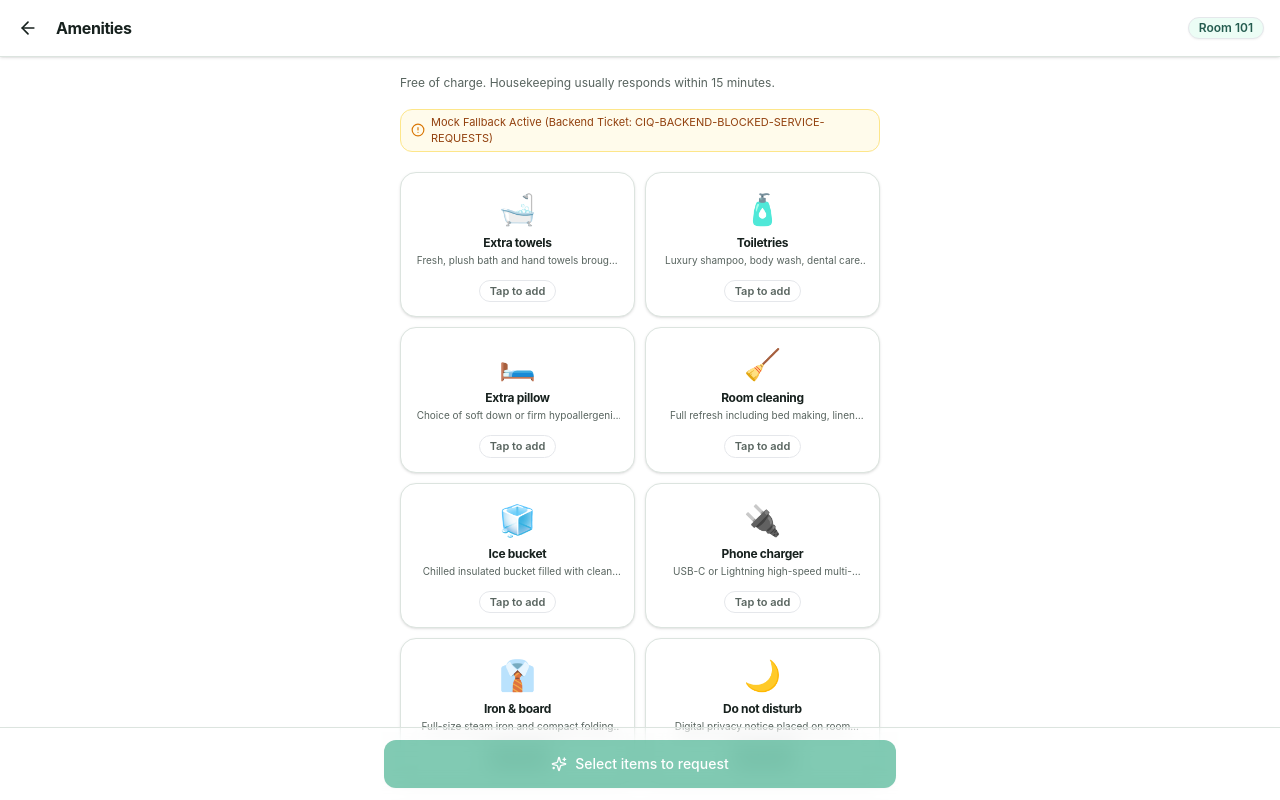
Test: AmenitiesPage Component Suite (UI: G06) › Backend Blocker Resilience & Mock Fallback Execution › catches HTTP 404 from backend gracefully, logs dependency notice, and activates mock 201 fallback
The image size is (1280, 800).
Select 2 Extra towels
Click the button with aria-label "Extra towels, currently 0 selected" at (518, 244), box [400, 172, 635, 317]
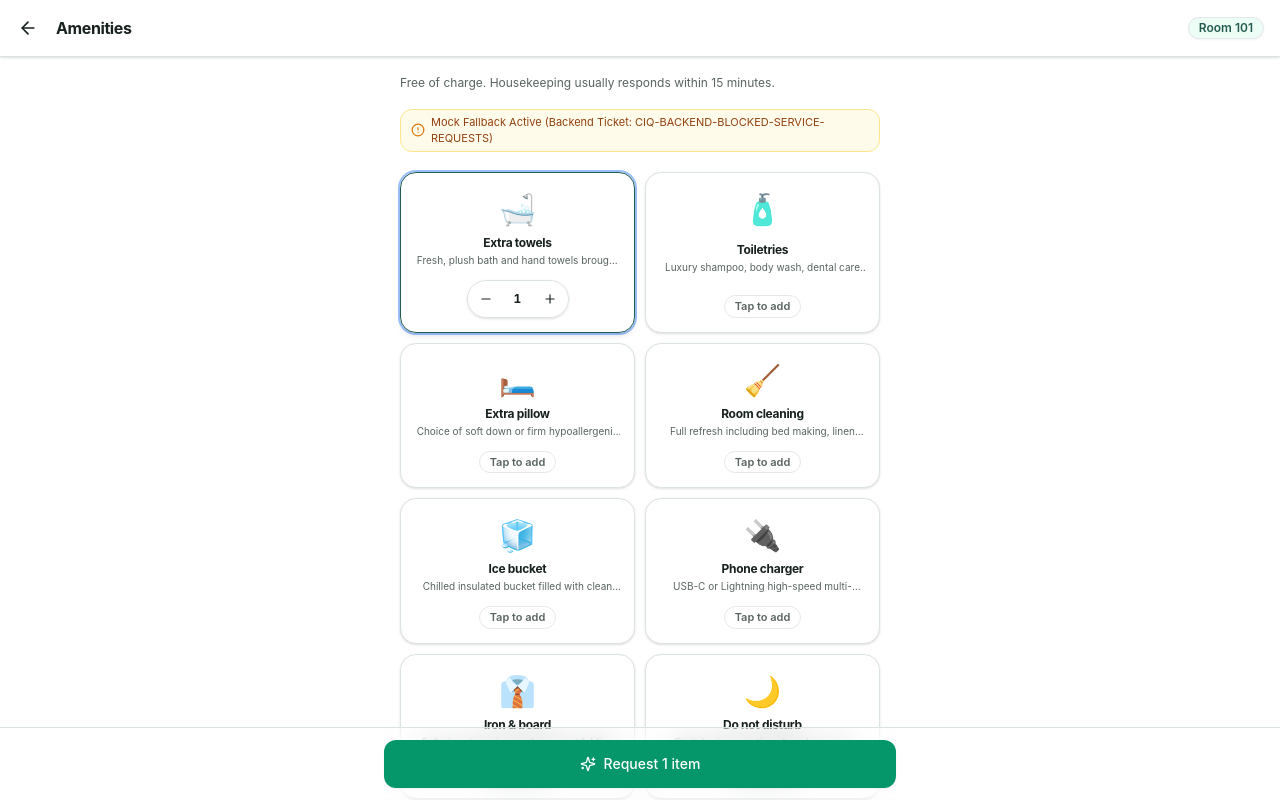
Click the button named "Increase quantity of Extra towels" at (550, 298), box [536, 284, 564, 312]
(page scrolled)
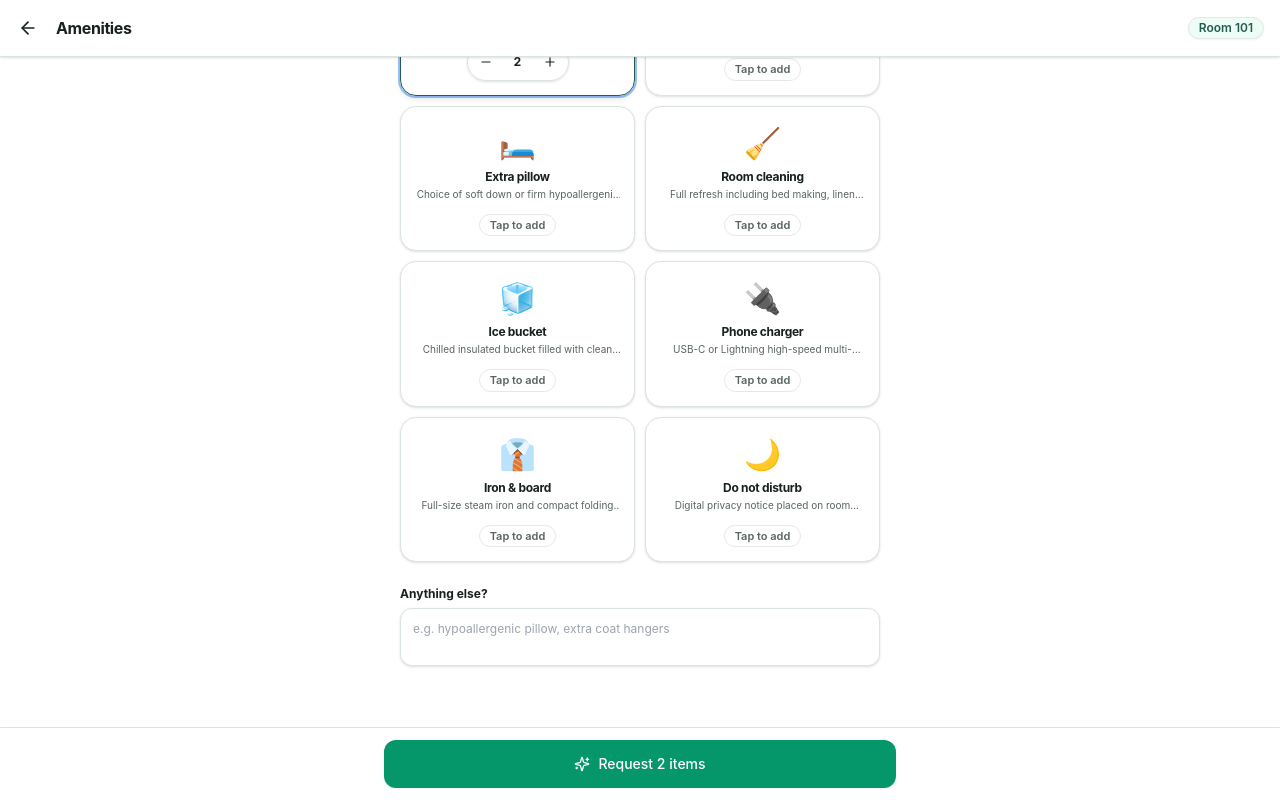
Enter special instructions
Type "Please leave outside room door" into the text box labelled "Anything else?" at (640, 637), box [400, 608, 880, 666]
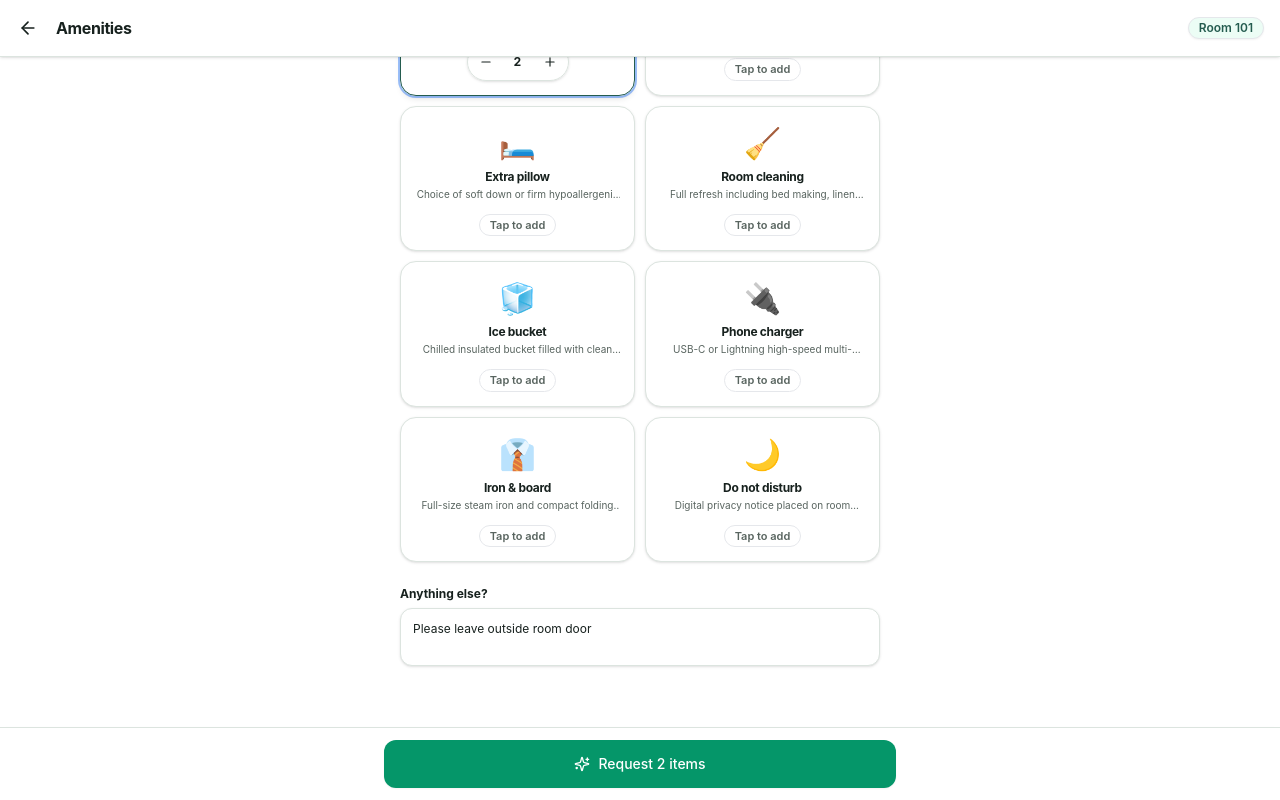
Click the button "Request 2 items" at (640, 764), box [384, 740, 896, 788]
(page scrolled)
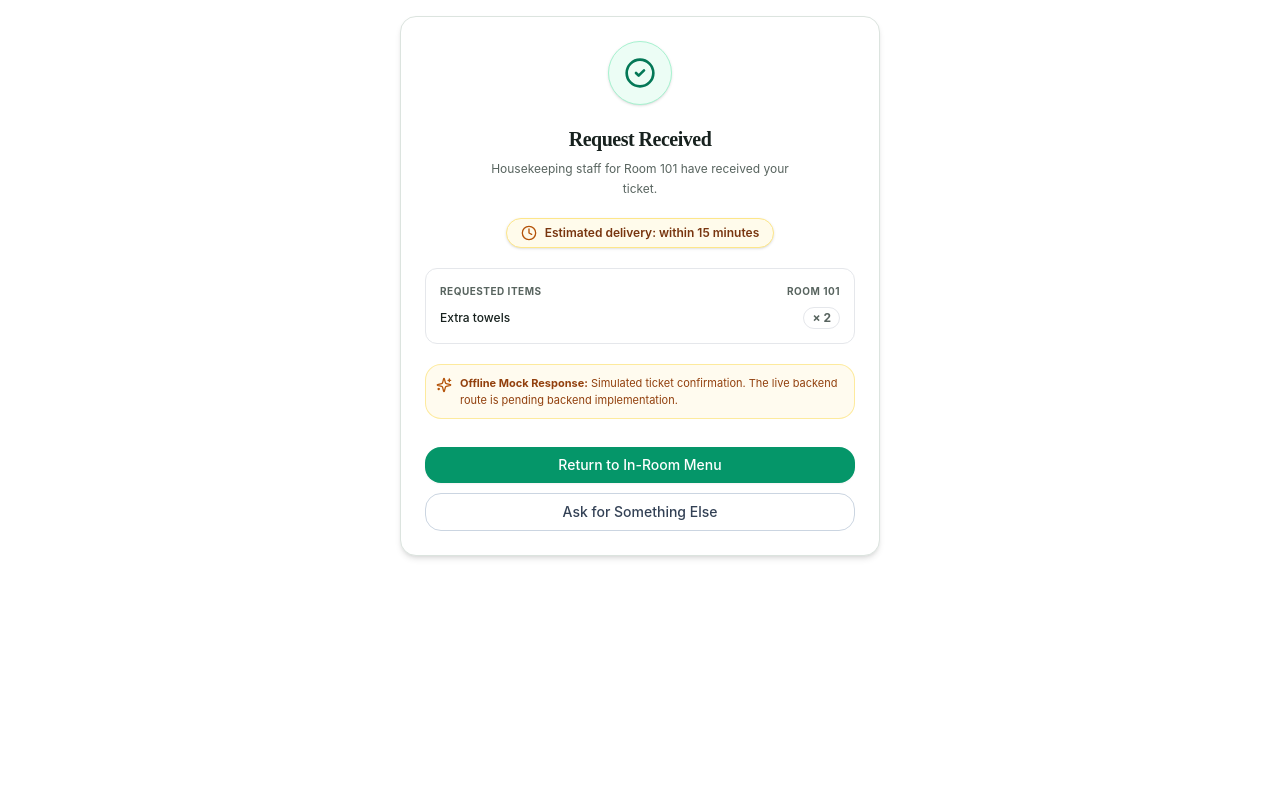
Result: the heading "Request Received" is shown at [569, 128, 711, 150]
Result: the text "Estimated delivery: within 15 minutes" is shown at [545, 225, 759, 241]
Result: the text "× 2" is shown at [803, 307, 840, 329]
